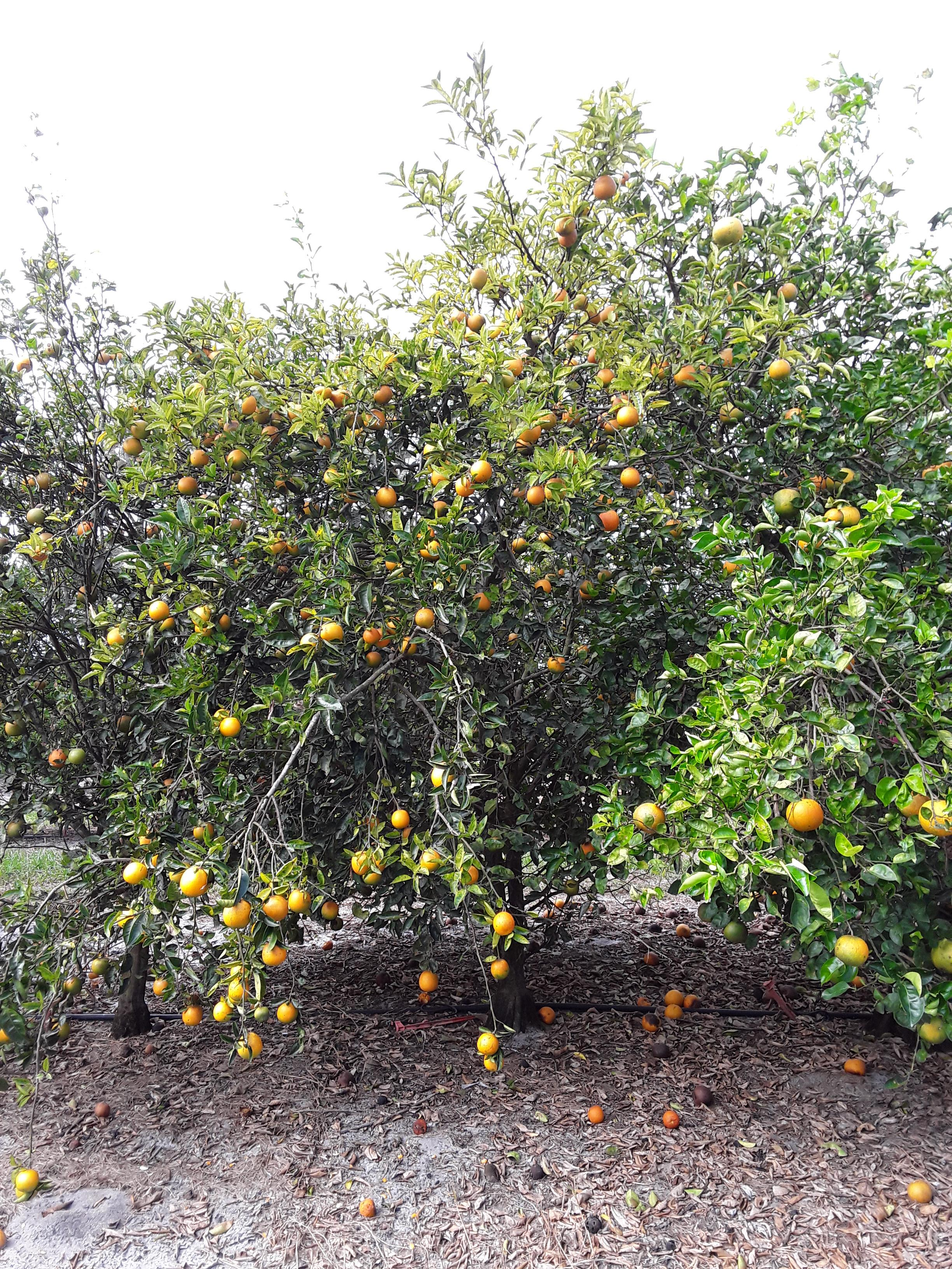fruit_on_ground: (785, 790, 822, 837), (894, 780, 934, 823), (831, 932, 873, 970), (918, 800, 952, 839), (179, 864, 212, 898), (915, 1011, 946, 1046), (824, 463, 858, 491), (224, 898, 252, 931), (772, 488, 803, 517), (635, 799, 662, 832), (928, 938, 952, 975), (721, 277, 751, 305), (350, 849, 376, 881), (714, 216, 740, 248), (362, 857, 387, 890), (794, 468, 825, 494), (719, 400, 751, 425), (672, 364, 705, 388), (712, 344, 743, 369), (723, 922, 750, 950), (236, 1032, 263, 1060), (121, 859, 145, 890), (234, 392, 262, 418), (793, 530, 825, 552), (779, 405, 810, 427), (418, 540, 444, 566), (262, 895, 287, 922), (544, 475, 569, 502), (429, 764, 457, 788), (113, 906, 141, 930), (513, 420, 542, 443), (496, 906, 518, 936), (416, 967, 441, 993), (820, 505, 846, 530), (326, 385, 353, 409), (324, 619, 347, 647), (289, 886, 311, 915), (371, 349, 400, 371), (129, 415, 154, 440), (300, 631, 324, 657), (112, 343, 136, 369), (467, 266, 490, 293), (615, 405, 640, 429), (263, 942, 287, 967), (564, 328, 588, 353), (5, 715, 31, 738), (768, 359, 795, 381), (73, 584, 101, 605), (662, 516, 686, 540), (362, 408, 386, 432), (186, 448, 211, 471), (13, 411, 40, 432), (491, 913, 512, 940), (379, 554, 407, 574), (647, 358, 673, 379), (582, 300, 603, 326), (532, 408, 558, 429), (418, 849, 441, 872), (219, 717, 243, 739), (191, 819, 215, 841), (503, 354, 527, 376), (259, 425, 281, 449), (373, 383, 398, 404), (841, 505, 862, 530), (390, 807, 411, 832), (427, 496, 452, 517), (192, 619, 221, 637), (40, 339, 66, 359), (26, 545, 53, 564), (178, 476, 201, 498), (413, 603, 434, 627), (488, 953, 509, 977), (596, 175, 617, 199), (107, 626, 127, 651), (14, 357, 40, 376), (276, 1002, 298, 1024), (376, 484, 397, 507), (122, 433, 142, 457), (600, 507, 620, 531), (149, 599, 169, 623), (170, 862, 194, 882), (477, 1032, 497, 1056), (341, 410, 365, 430), (357, 813, 382, 832), (321, 466, 343, 487), (429, 466, 451, 487), (560, 406, 582, 427), (226, 448, 249, 468), (385, 612, 405, 635), (837, 652, 857, 675), (49, 747, 69, 770), (321, 899, 341, 922), (228, 984, 248, 1007), (554, 215, 577, 235), (339, 485, 362, 505), (621, 467, 640, 491), (509, 301, 534, 319), (294, 501, 319, 519), (411, 524, 439, 540), (696, 902, 717, 923), (137, 830, 158, 851), (472, 460, 492, 482), (196, 429, 218, 449), (270, 472, 292, 492), (310, 433, 333, 452), (284, 536, 303, 559), (262, 537, 286, 555), (471, 592, 492, 612), (214, 707, 234, 728), (37, 469, 56, 491), (527, 484, 546, 506), (398, 636, 417, 658), (214, 1002, 233, 1024), (557, 229, 579, 248), (599, 304, 621, 323), (722, 556, 745, 574), (192, 605, 210, 628), (309, 385, 332, 403), (600, 418, 623, 436), (420, 441, 443, 459), (251, 406, 271, 426), (510, 536, 530, 556), (115, 713, 136, 732), (182, 1004, 201, 1025), (221, 417, 242, 436), (229, 961, 248, 982), (26, 508, 48, 526), (778, 282, 796, 304), (157, 613, 175, 635), (271, 565, 299, 579), (456, 475, 473, 498), (91, 955, 108, 978), (445, 309, 468, 326), (572, 643, 592, 662), (69, 748, 89, 767), (467, 312, 486, 332), (596, 366, 615, 386), (252, 1005, 271, 1025), (547, 566, 568, 584), (301, 608, 319, 629), (36, 533, 61, 548), (462, 863, 479, 885), (19, 474, 39, 492), (576, 579, 594, 599), (363, 626, 381, 646), (550, 654, 567, 675), (7, 822, 24, 843), (551, 287, 569, 306), (584, 346, 602, 365), (159, 774, 179, 791), (210, 351, 231, 367), (77, 519, 94, 538), (64, 976, 81, 995), (572, 292, 591, 309), (364, 652, 384, 668), (535, 579, 553, 596), (580, 841, 598, 858), (95, 346, 112, 364), (510, 484, 528, 501), (563, 879, 581, 896), (142, 521, 161, 537), (153, 977, 168, 997), (286, 405, 307, 419), (227, 516, 245, 532), (536, 529, 554, 545), (378, 623, 390, 646), (276, 643, 289, 663), (147, 853, 165, 867), (217, 611, 230, 630), (193, 345, 206, 364), (597, 567, 613, 582), (331, 916, 346, 932), (227, 472, 244, 486), (231, 554, 247, 568), (250, 365, 264, 381), (510, 635, 523, 652), (237, 333, 255, 345), (2, 1032, 14, 1049), (484, 645, 498, 659), (270, 411, 284, 425), (158, 561, 175, 572), (621, 171, 631, 182), (618, 177, 627, 186)
fruit_on_tree: (906, 1174, 934, 1206), (42, 1017, 73, 1044), (14, 1170, 39, 1200), (841, 1054, 869, 1080), (692, 1084, 715, 1110), (487, 960, 509, 984), (356, 1196, 378, 1220), (334, 1070, 360, 1090), (410, 1115, 430, 1140), (586, 1104, 607, 1126), (663, 1003, 686, 1023), (585, 1215, 604, 1238), (650, 1042, 673, 1060), (9, 1186, 33, 1203), (642, 1012, 662, 1032), (482, 1164, 501, 1185), (373, 971, 396, 988), (664, 1108, 681, 1131), (667, 989, 686, 1008), (682, 993, 700, 1013), (537, 1004, 554, 1025), (116, 1042, 137, 1058), (525, 1163, 546, 1179), (525, 937, 544, 954), (93, 1101, 110, 1120), (675, 922, 691, 940), (636, 937, 655, 952), (848, 975, 868, 989), (645, 923, 664, 937), (693, 935, 709, 951), (1, 1225, 11, 1249), (637, 995, 654, 1009), (444, 913, 460, 927), (642, 951, 656, 967), (152, 1021, 168, 1035), (664, 909, 682, 921), (633, 906, 652, 917), (142, 1043, 155, 1057), (88, 970, 102, 982), (186, 991, 201, 1002), (544, 909, 556, 921), (377, 1093, 389, 1105), (595, 902, 607, 913), (553, 898, 566, 908), (322, 940, 334, 950), (196, 928, 205, 937)
